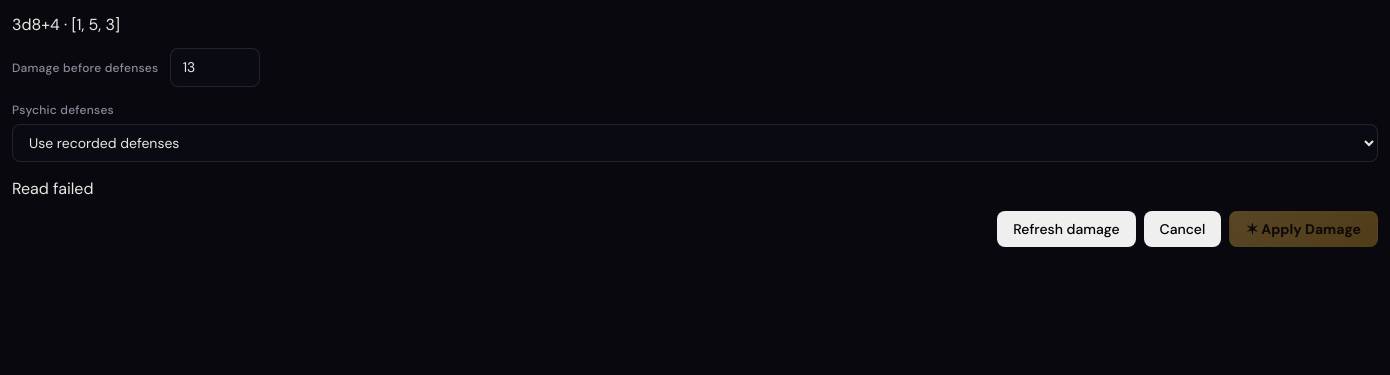
Test case: failed preview keeps application disabled and offers refresh
Expected: the message "Read failed" is shown, [12, 178, 94, 199]
Expected: the button "✶ Apply Damage" is disabled, [1229, 211, 1378, 247]
Step 1. Click the button "Refresh damage" → (1066, 229), box [997, 211, 1136, 247]
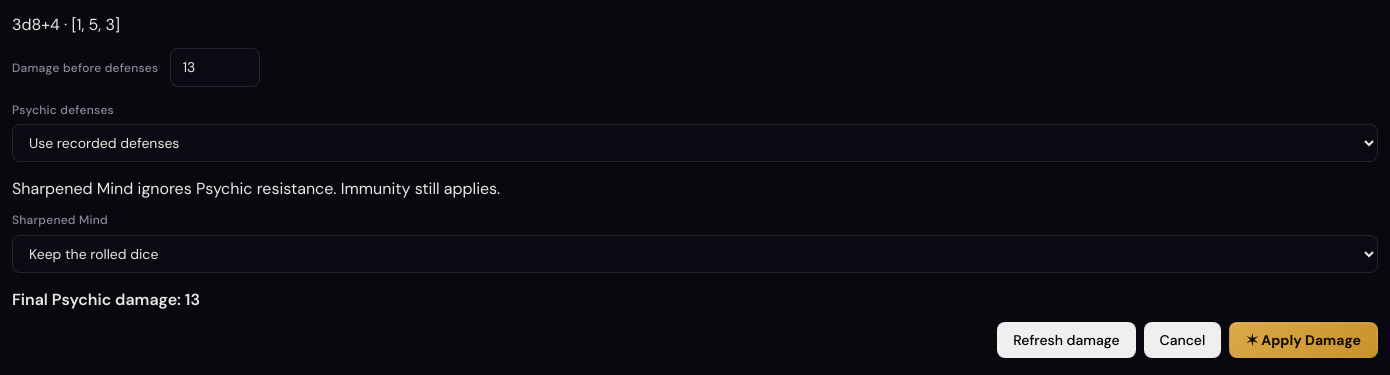
Expected: the text "Final Psychic damage: 13" is shown, [12, 289, 200, 310]
